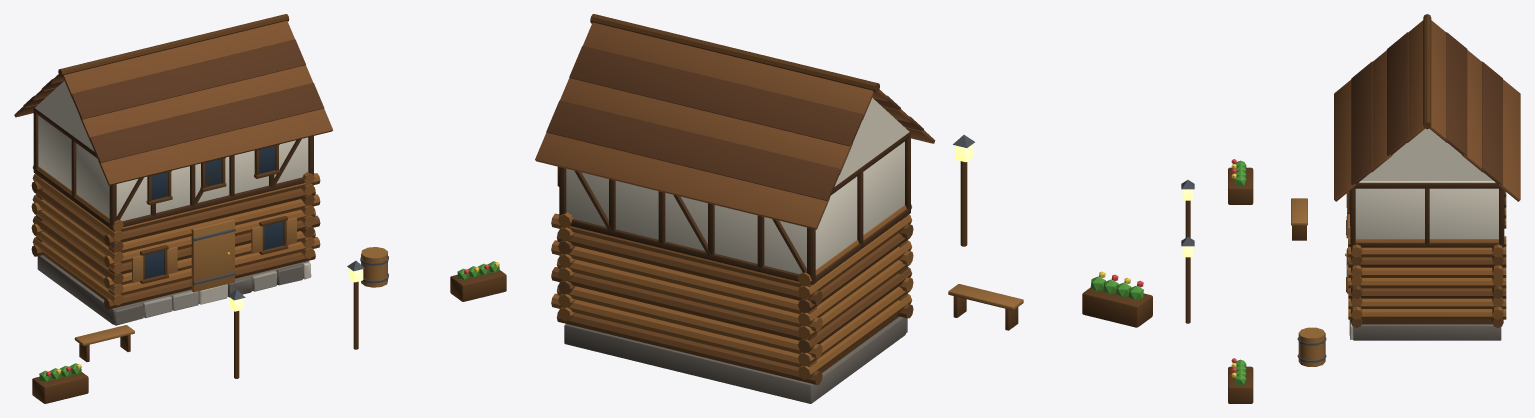
File: budynek_glowny_poz07.glb
The picture shows the model from 3 angles, left to right: view 1: azimuth 30°, elevation 25°; view 2: azimuth 150°, elevation 25°; view 3: azimuth 270°, elevation 25°; orthographic projection. The views are drawn at different scales.
Parts seen in each view (by area): view 1: budynek_glowny_poz07; view 2: budynek_glowny_poz07; view 3: budynek_glowny_poz07.
Boxes of the visible parts, box(x1,y1,x2,y2) form: budynek_glowny_poz07: box(14, 14, 506, 403); budynek_glowny_poz07: box(535, 14, 1152, 403); budynek_glowny_poz07: box(1181, 14, 1520, 403).
Bounding box in the file's own units: 12.4 × 5.94 × 8.06.
